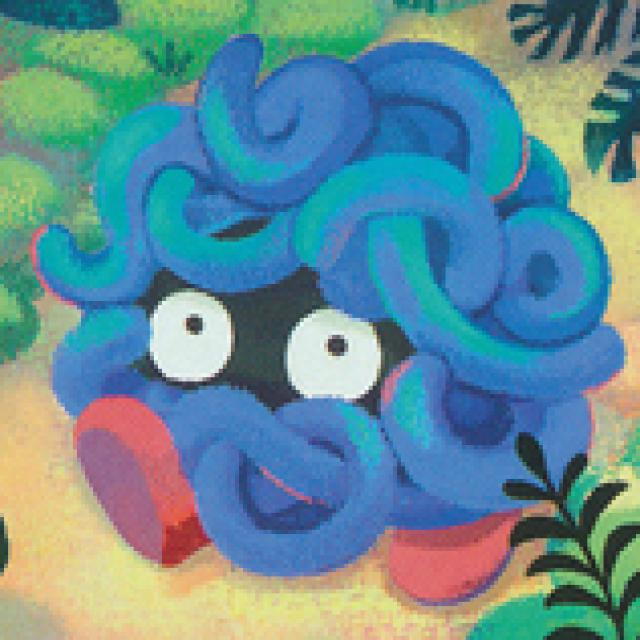Tangela: (41, 40, 621, 598)
